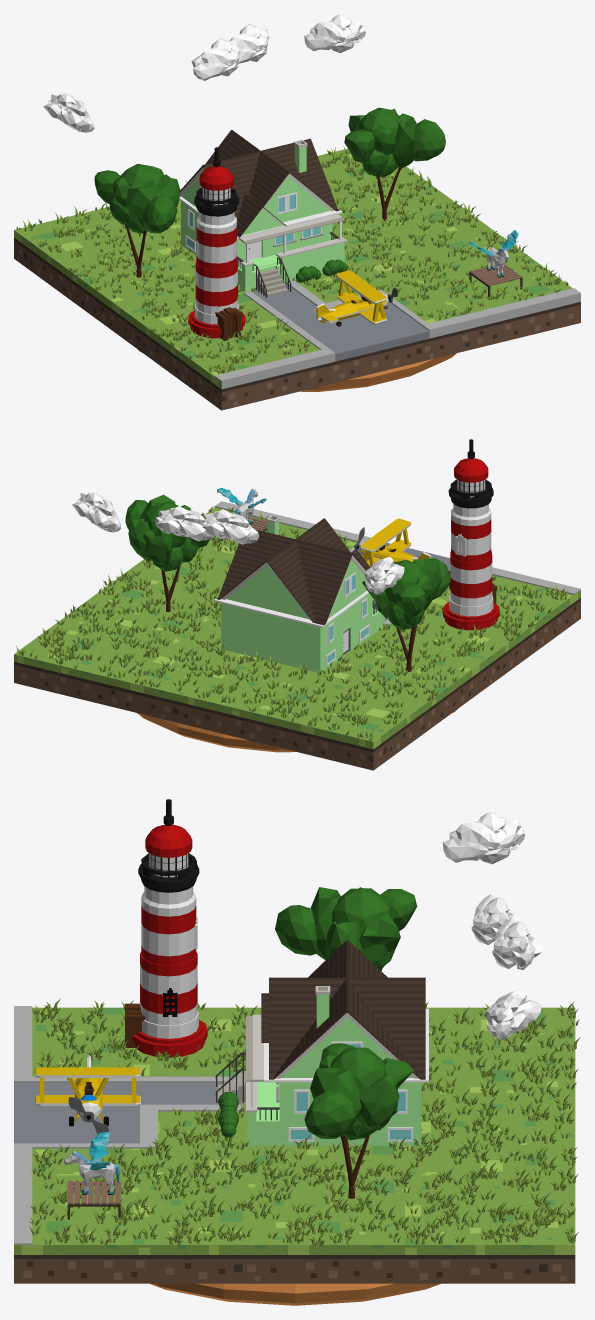
3 renders of one model, top to bottom at view 1: azimuth 30°, elevation 25°; view 2: azimuth 150°, elevation 25°; view 3: azimuth 270°, elevation 25°, orthographic. The views are drawn at different scales.
Parts seen in each view (by area): view 1: Cube.006, Circle.012_Grass_0.192, Cube.274, OBJRANDOM_LIGHTHOUSE, Cube.007, tree, tree.001, VEHICLES_AIRPLANE, UNDERGROUND_PIZZA, ANIMAL_PEGASO, Cube.009; view 2: Cube.006, Cube.274, Circle.012_Grass_0.192, OBJRANDOM_LIGHTHOUSE, Cube.007, tree.001, tree, VEHICLES_AIRPLANE, UNDERGROUND_PIZZA, ANIMAL_PEGASO; view 3: Cube.006, Circle.012_Grass_0.192, Cube.274, OBJRANDOM_LIGHTHOUSE, tree, Cube.007, tree.001, UNDERGROUND_PIZZA, VEHICLES_AIRPLANE, ANIMAL_PEGASO, Cube.009.
Part boxes in pixels (x1,y1,x2,y2): Cube.006: [14, 148, 580, 410]; Circle.012_Grass_0.192: [16, 146, 568, 373]; Cube.274: [179, 130, 346, 297]; OBJRANDOM_LIGHTHOUSE: [188, 147, 245, 340]; Cube.007: [43, 14, 365, 132]; tree: [344, 107, 445, 220]; tree.001: [94, 163, 180, 277]; VEHICLES_AIRPLANE: [314, 270, 398, 326]; UNDERGROUND_PIZZA: [137, 349, 456, 391]; ANIMAL_PEGASO: [468, 230, 518, 277]; Cube.009: [469, 264, 522, 296]; Cube.006: [14, 501, 580, 770]; Cube.274: [214, 515, 384, 672]; Circle.012_Grass_0.192: [16, 506, 567, 740]; OBJRANDOM_LIGHTHOUSE: [442, 439, 499, 630]; Cube.007: [72, 492, 404, 594]; tree.001: [362, 558, 450, 671]; tree: [125, 494, 209, 611]; VEHICLES_AIRPLANE: [354, 518, 432, 566]; UNDERGROUND_PIZZA: [137, 709, 457, 752]; ANIMAL_PEGASO: [217, 488, 266, 523]; Cube.006: [14, 1006, 575, 1283]; Circle.012_Grass_0.192: [29, 998, 580, 1246]; Cube.274: [215, 940, 428, 1145]; OBJRANDOM_LIGHTHOUSE: [125, 799, 207, 1057]; tree: [304, 1043, 413, 1198]; Cube.007: [442, 811, 541, 1040]; tree.001: [275, 887, 417, 970]; UNDERGROUND_PIZZA: [149, 1283, 440, 1305]; VEHICLES_AIRPLANE: [35, 1055, 140, 1133]; ANIMAL_PEGASO: [64, 1131, 120, 1194]; Cube.009: [67, 1180, 120, 1219].
Bounding box in the file's own units: 4071 × 2499 × 4040.
Materials: 49 (3 with a texture image).
